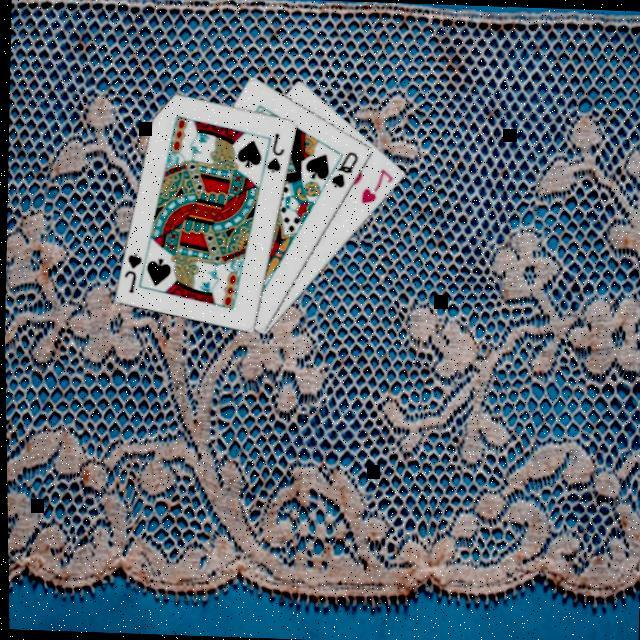7H: (359, 163, 399, 206)
JS: (264, 128, 290, 175), (121, 249, 147, 295)
QS: (329, 146, 363, 190)
